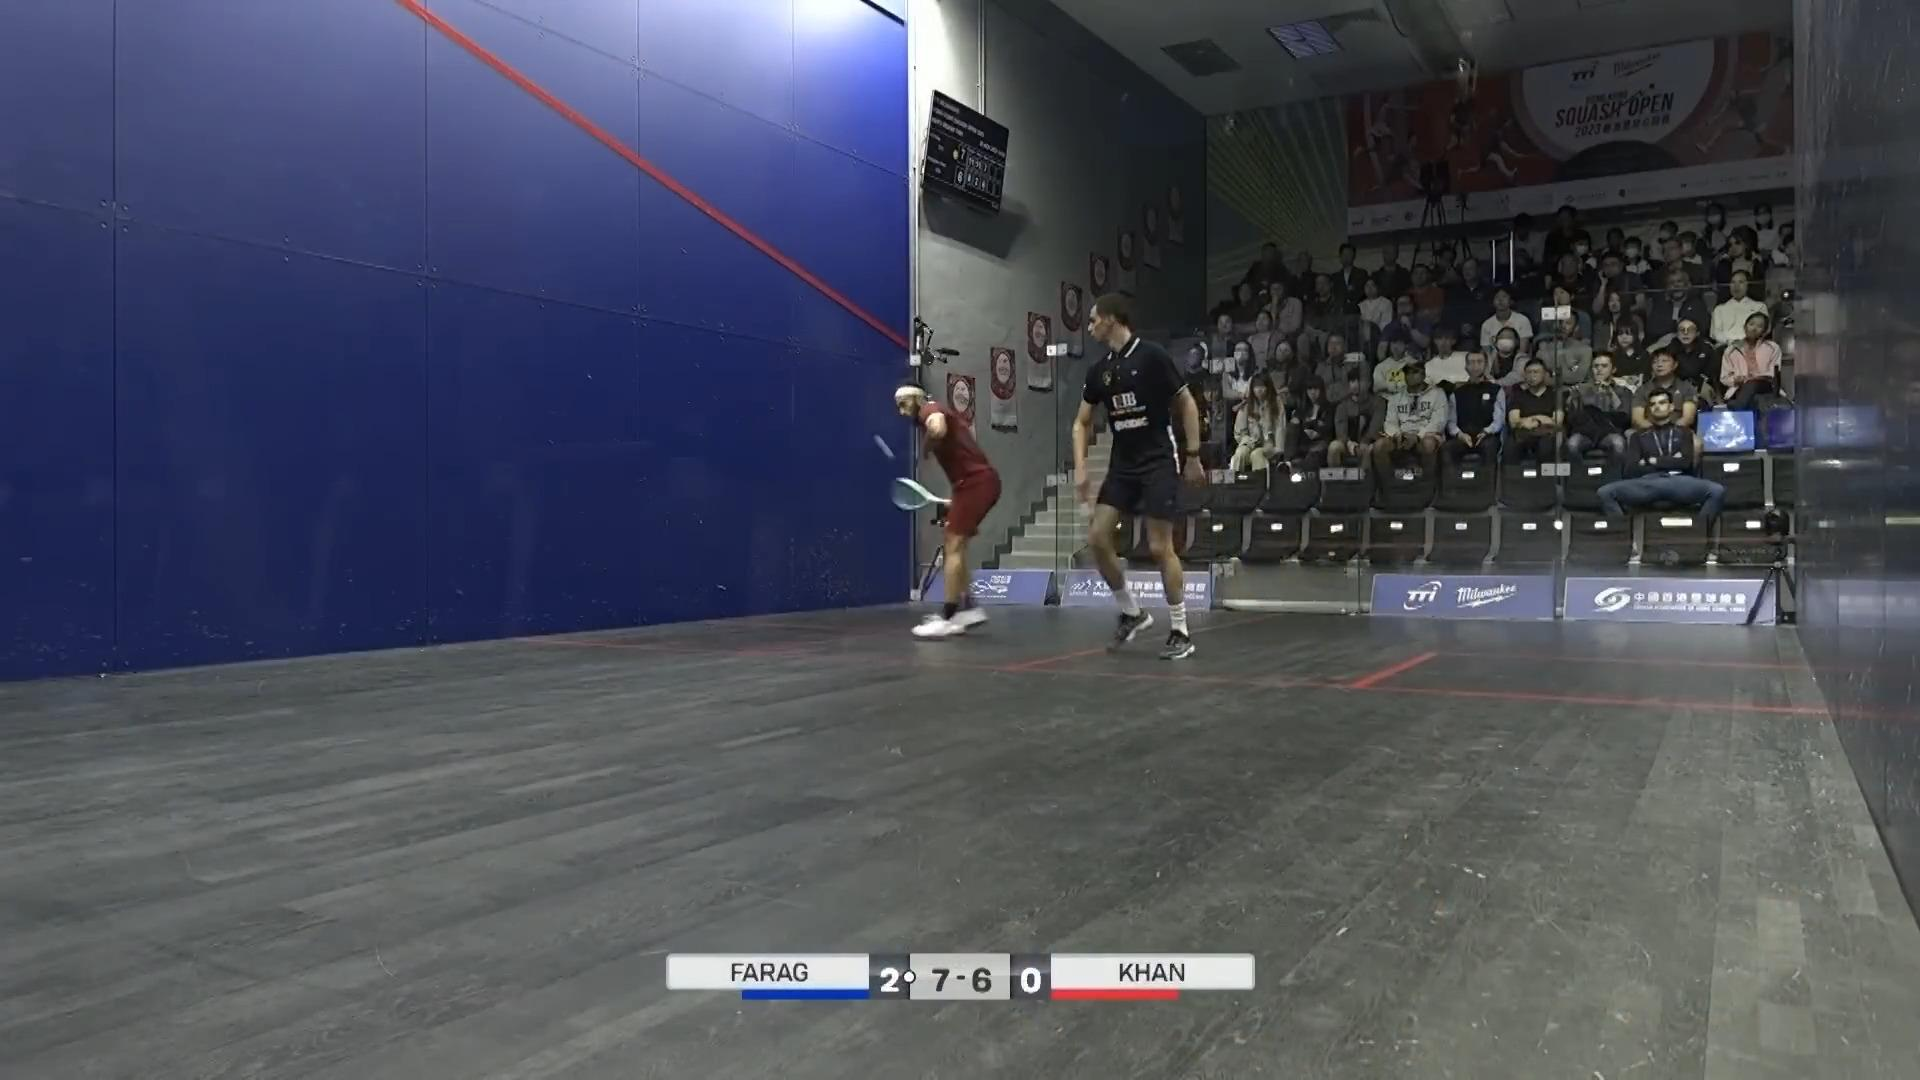Racket: (880, 472, 953, 518)
